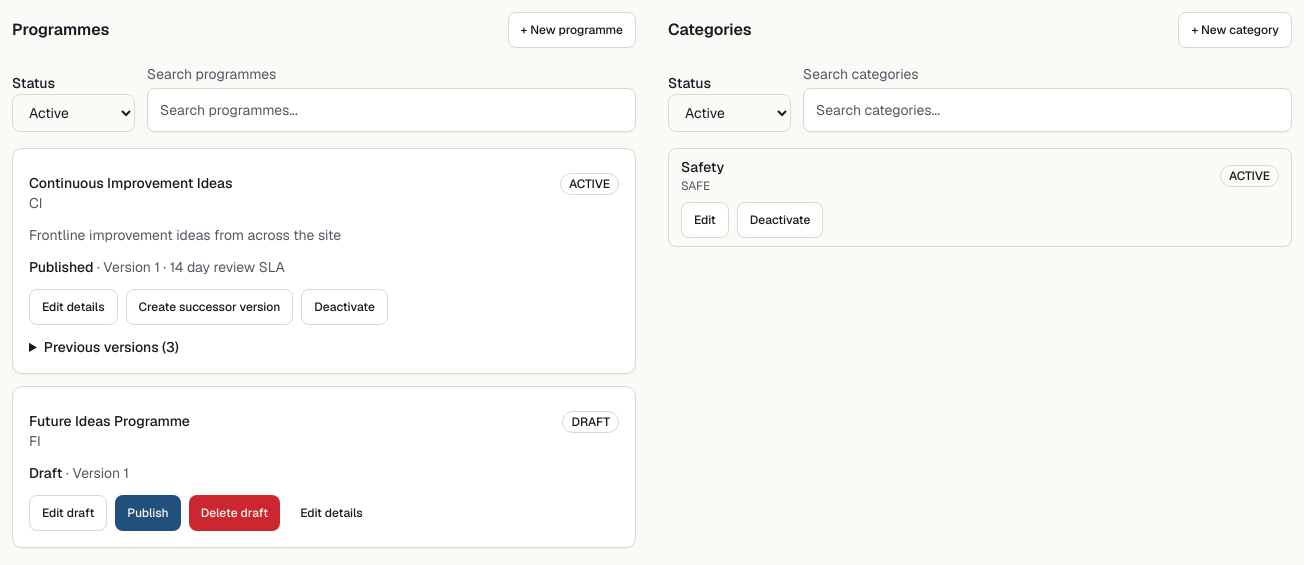
it: ProgrammeManagement administration UX › shows deactivated programmes when deactivated filter is selected
This screenshot has width=1304, height=565.
Step 1. Select "Deactivated" in the dropdown labelled "Status" below "Search programmes" → [74, 113], box [12,94,135,132]
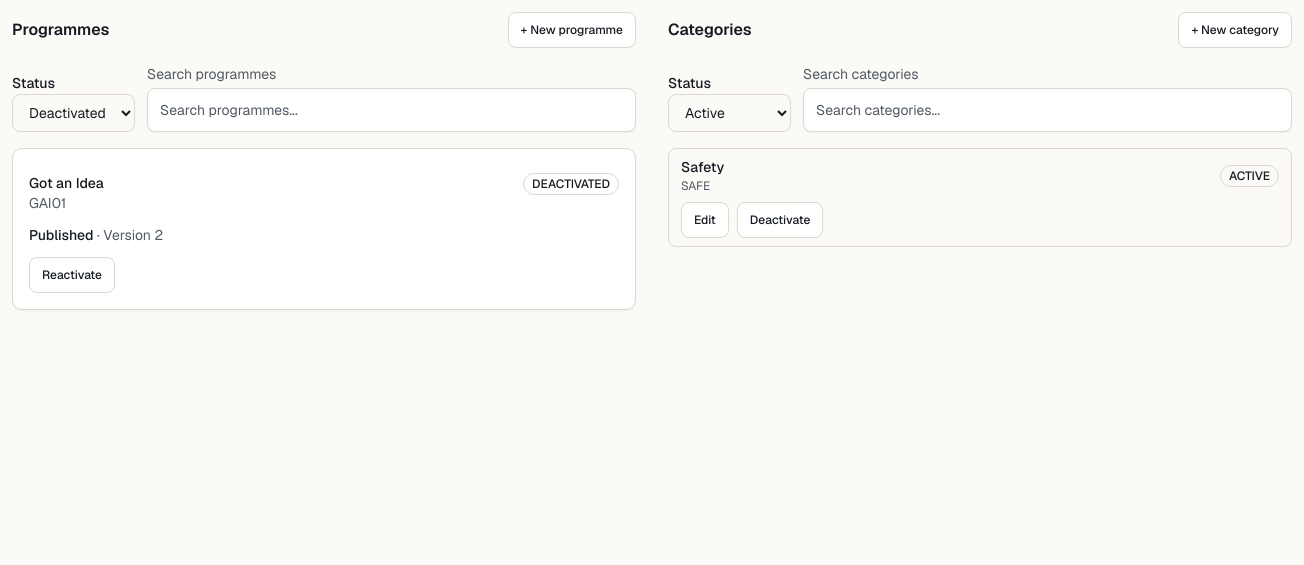
expect the element with test id "programme-card-prog-deactivated" is shown: met, box [12,148,636,310]
expect the element with test id "programme-card-prog-active" is gone: met
